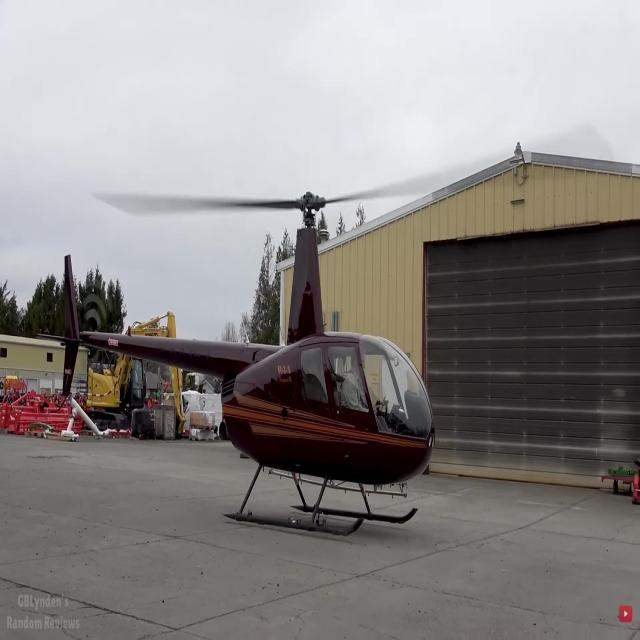CIV_HELO: (34, 188, 438, 542)
